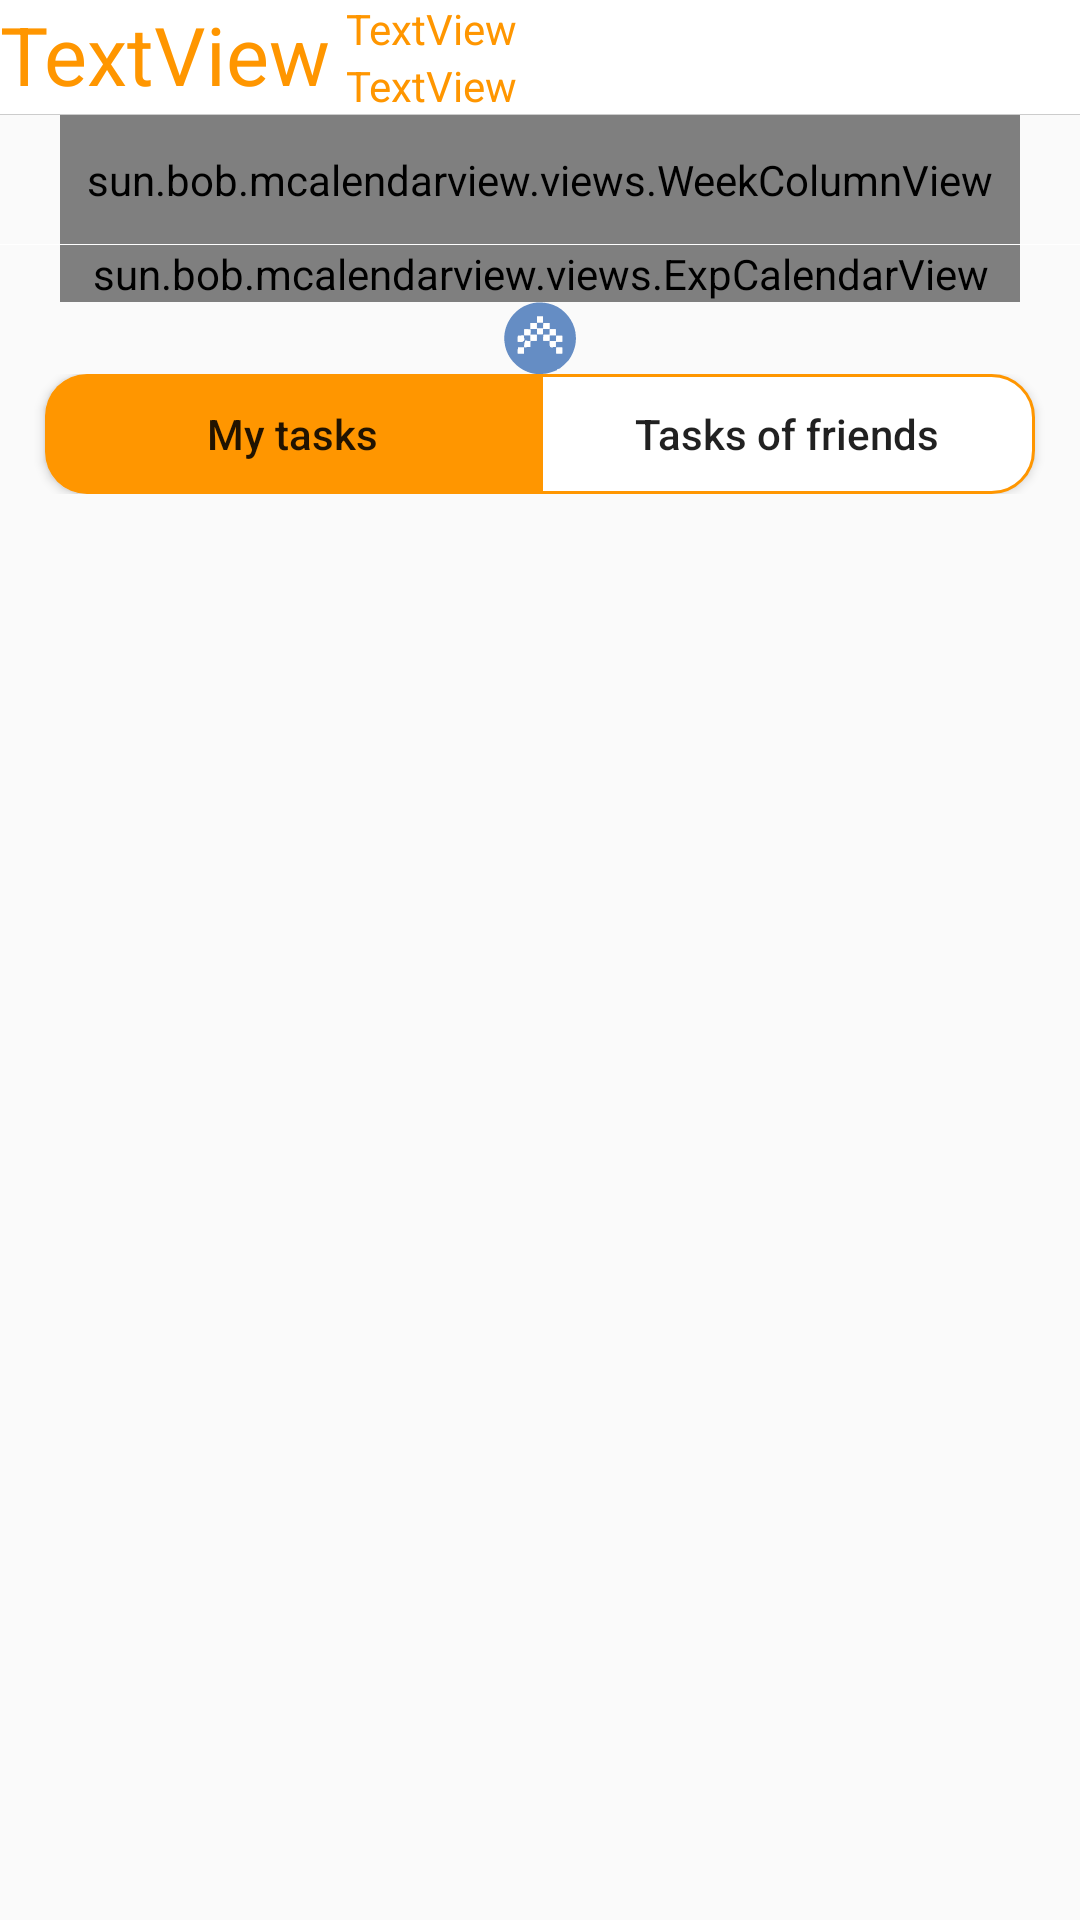

Point at icon controls on the screen. Image size 1080px×1920px, points as (x=x, y=y).
hideonoff: (x=540, y=338)
